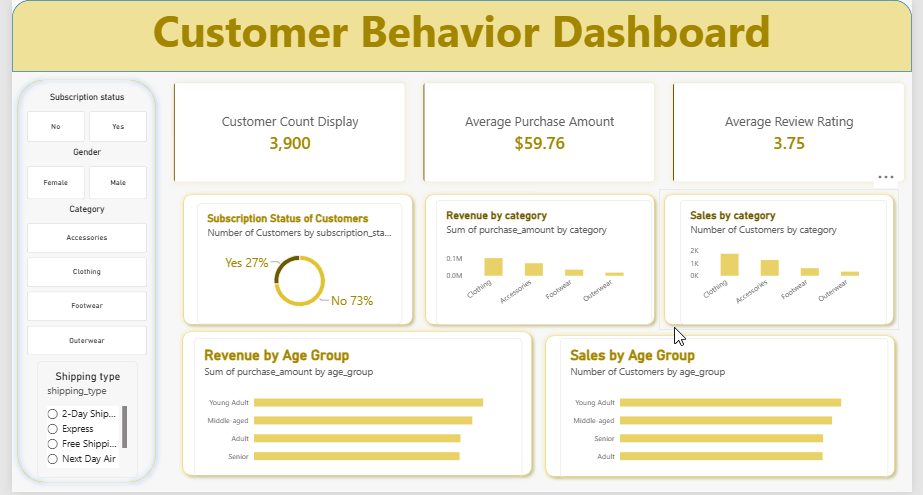

The dashboard page shown, as its layout file describes it:
{"tool":"powerbi","page":{"name":"Customer Behavior ","canvas":[1500,820],"ordinal":0},"visuals":[{"type":"cardVisual","fields":{"Data":["public customer.Customer Count Display","public customer.Average Purchase Amount","public customer.Average Review Rating"]},"box":[258.3,125.9,1241.3,188.9],"z":0},{"type":"shape","box":[0,0,1500,120],"z":1000},{"type":"textbox","box":[0,0,1500,120],"z":2000},{"type":"shape","box":[276.2,315,400,235],"z":3000},{"type":"donutChart","title":"Subscription Status of Customers","fields":{"Category":["public customer.subscription_status"],"Y":["public customer.Number of Customers"]},"box":[308.3,339,342.2,201.8],"z":4000},{"type":"shape","box":[1077.5,315,400,235],"z":5000},{"type":"shape","box":[680,315,400,235],"z":6000},{"type":"clusteredColumnChart","title":"Revenue by category","fields":{"Category":["public customer.category"],"Y":["Sum(public customer.purchase_amount)"]},"box":[707,332.5,360,208.2],"z":7000},{"type":"clusteredColumnChart","title":"Sales by category","fields":{"Category":["public customer.category"],"Y":["public customer.Number of Customers"]},"box":[1113.8,332.5,345.4,208.2],"z":8000},{"type":"shape","box":[0,123.3,248.8,690],"z":9000},{"type":"advancedSlicerVisual","title":"Subscription status","fields":{"Values":["public customer.subscription_status"]},"box":[25,153.3,200,83.8],"z":10000},{"type":"advancedSlicerVisual","title":"Gender","fields":{"Values":["public customer.gender"]},"box":[24.2,245.4,200.2,87.2],"z":11000},{"type":"advancedSlicerVisual","title":"Category","fields":{"Values":["public customer.category"]},"box":[25,339.6,200,253.8],"z":12000},{"type":"listSlicer","title":"Shipping type","fields":{"Values":["public customer.shipping_type"]},"box":[41.2,602.1,167.5,195],"z":13000},{"type":"shape","box":[274.4,544,600.5,258.3],"z":14000},{"type":"clusteredBarChart","title":"Revenue by Age Group","fields":{"Category":["public customer.age_group"],"Y":["Sum(public customer.purchase_amount)"]},"box":[303.5,563.3,547.2,234.1],"z":15000},{"type":"shape","box":[879.7,550.4,600.5,253.4],"z":16000},{"type":"clusteredBarChart","title":"Sales by Age Group","fields":{"Category":["public customer.age_group"],"Y":["public customer.Number of Customers"]},"box":[913.6,563.3,547.2,234.1],"z":17000}]}

Visuals, with their boxes in screenshot pixels (x1, y1, x2, y2), scaled from the page's 1500x820 canvas onto the 923x495 screenshot:
cardVisual - public customer.Customer Count Display x public customer.Average Purchase Amount: l=159, t=76, r=922, b=190
shape: l=0, t=0, r=922, b=72
textbox: l=0, t=0, r=922, b=72
shape: l=170, t=190, r=416, b=332
"Subscription Status of Customers" donutChart: l=190, t=205, r=400, b=326
shape: l=663, t=190, r=909, b=332
shape: l=418, t=190, r=665, b=332
"Revenue by category" clusteredColumnChart: l=435, t=201, r=657, b=326
"Sales by category" clusteredColumnChart: l=685, t=201, r=898, b=326
shape: l=0, t=74, r=153, b=491
"Subscription status" advancedSlicerVisual: l=15, t=93, r=138, b=143
"Gender" advancedSlicerVisual: l=15, t=148, r=138, b=201
"Category" advancedSlicerVisual: l=15, t=205, r=138, b=358
"Shipping type" listSlicer: l=25, t=363, r=128, b=481
shape: l=169, t=328, r=538, b=484
"Revenue by Age Group" clusteredBarChart: l=187, t=340, r=523, b=481
shape: l=541, t=332, r=911, b=485
"Sales by Age Group" clusteredBarChart: l=562, t=340, r=899, b=481
